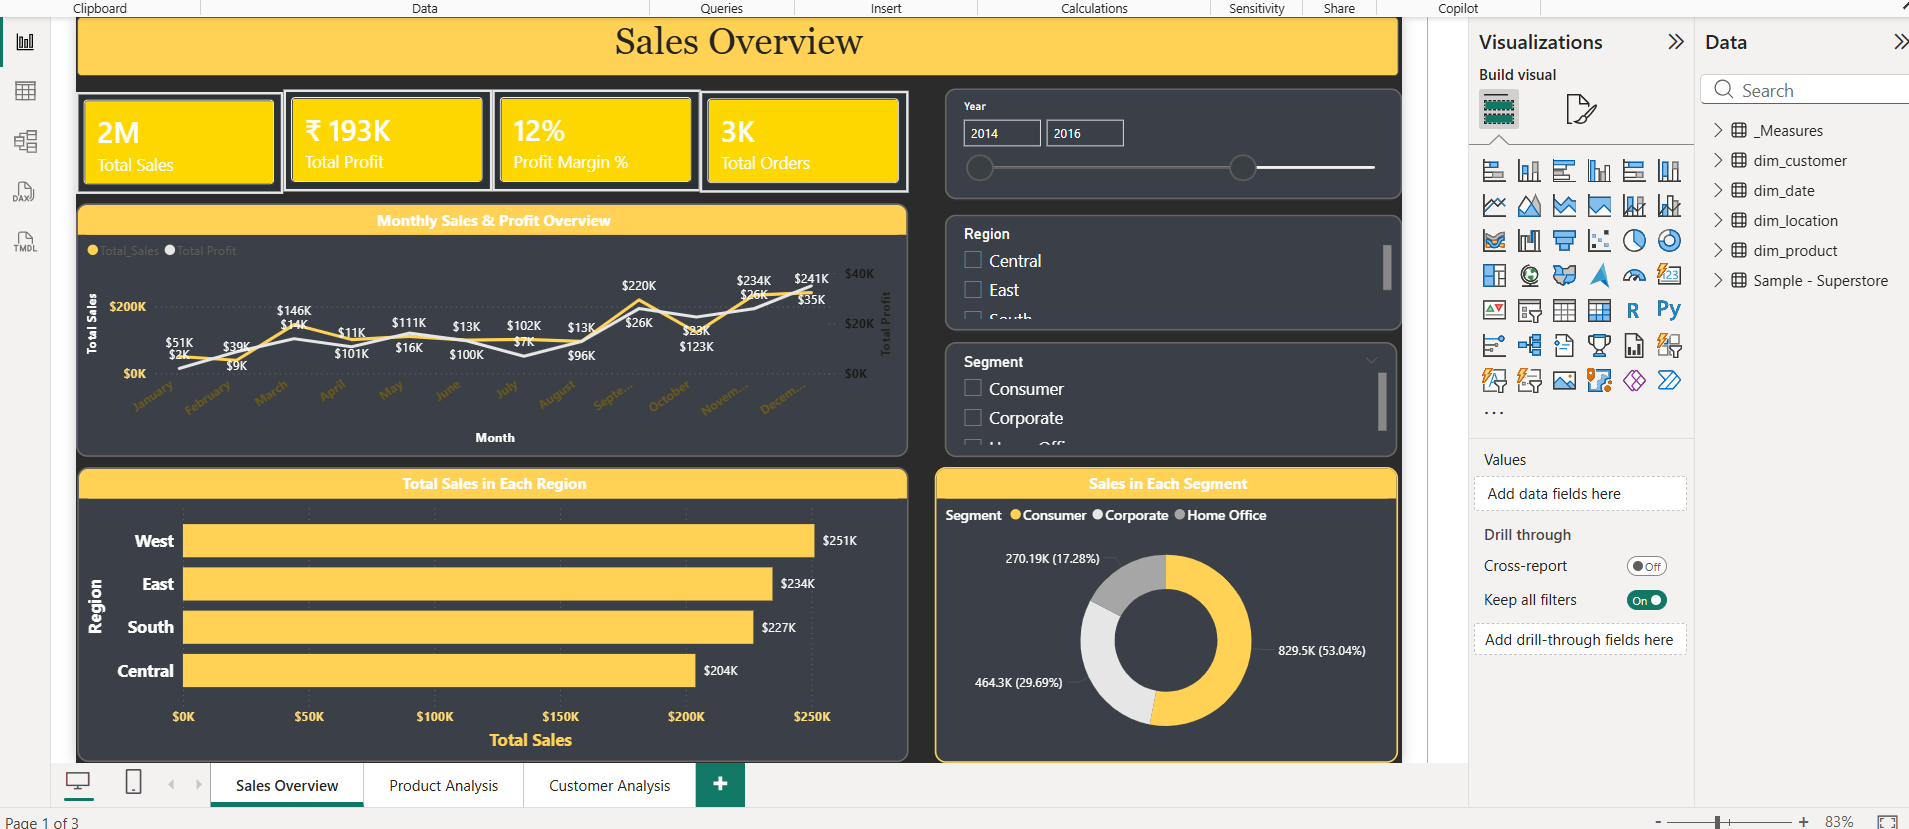

The page's visual inventory and layout, read from the dashboard file:
{"tool":"powerbi","page":{"name":"Sales Overview","canvas":[1280,720],"ordinal":0},"visuals":[{"type":"cardVisual","fields":{"Data":["_Measures.Total_Sales"]},"box":[0,72.5,200,98.8],"z":0},{"type":"lineChart","title":"Monthly Sales & Profit Overview","fields":{"Category":["dim_date.Month Name"],"Y":["_Measures.Total_Sales"],"Y2":["_Measures.Total Profit"]},"box":[0,179.8,803.5,244.9],"z":1000},{"type":"cardVisual","fields":{"Data":["_Measures.Total Profit"]},"box":[200,70,201.2,98.8],"z":2000},{"type":"cardVisual","fields":{"Data":["_Measures.Profit Margin %"]},"box":[401.2,70,201.2,98.8],"z":3000},{"type":"cardVisual","fields":{"Data":["_Measures.Total Orders"]},"box":[602.5,71.2,201.2,98.8],"z":4000},{"type":"textbox","title":"Sales Overview","box":[1.2,0,1275.2,56.7],"z":5000},{"type":"donutChart","title":"Sales in Each Segment","fields":{"Y":["Sum(Sample - Superstore.Sales)"],"Category":["dim_customer.Segment"]},"box":[828.8,434.3,447.6,285.9],"z":6000},{"type":"slicer","fields":{"Values":["dim_date.Year"]},"box":[838.5,68.8,441.6,107.4],"z":7000},{"type":"slicer","fields":{"Values":["dim_location.Region"]},"box":[838.5,190.6,441.6,112.2],"z":8000},{"type":"slicer","fields":{"Values":["Sample - Superstore.Segment"]},"box":[838.5,313.7,436.7,111],"z":9000},{"type":"clusteredBarChart","title":"Total Sales in Each Region","fields":{"Category":["dim_location.Region"],"Y":["_Measures.Total_Sales"]},"box":[1.2,434.3,802.3,284.7],"z":10000}]}

Visuals, with their boxes on the page's 1280x720 design canvas (x1, y1, x2, y2). These are canvas units, not pixel positions in the 1909x829 screenshot, which may show the page scaled, cropped or inside an application window:
cardVisual - _Measures.Total_Sales: crop(0, 72, 200, 171)
"Monthly Sales & Profit Overview" lineChart: crop(0, 180, 804, 425)
cardVisual - _Measures.Total Profit: crop(200, 70, 401, 169)
cardVisual - _Measures.Profit Margin %: crop(401, 70, 602, 169)
cardVisual - _Measures.Total Orders: crop(602, 71, 804, 170)
"Sales Overview" textbox: crop(1, 0, 1276, 57)
"Sales in Each Segment" donutChart: crop(829, 434, 1276, 720)
slicer - dim_date.Year: crop(838, 69, 1280, 176)
slicer - dim_location.Region: crop(838, 191, 1280, 303)
slicer - Sample - Superstore.Segment: crop(838, 314, 1275, 425)
"Total Sales in Each Region" clusteredBarChart: crop(1, 434, 804, 719)
